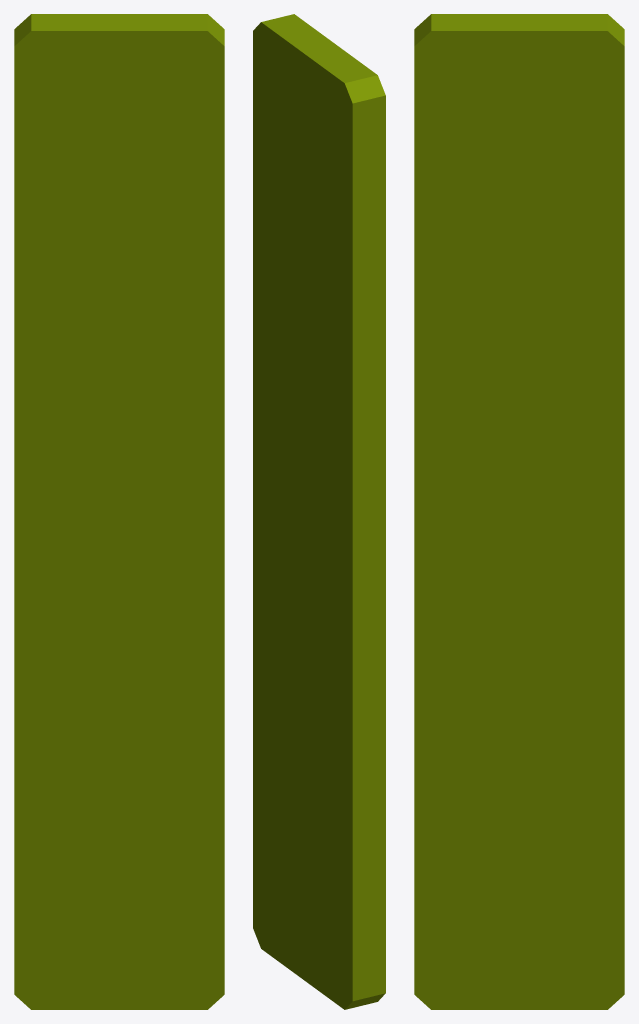
Rendered from SM_Poteausign1.fbx.
3 renders of one model, left to right at view 1: azimuth 90°, elevation 25°; view 2: azimuth 210°, elevation 25°; view 3: azimuth 270°, elevation 25°, orthographic. The views are drawn at different scales.
Visible parts, largest first — view 1: Poteausign1; view 2: Poteausign1; view 3: Poteausign1.
Boxes of the visible parts, bbox=[...] form: Poteausign1: bbox=[14, 14, 224, 1009]; Poteausign1: bbox=[253, 14, 385, 1009]; Poteausign1: bbox=[414, 14, 624, 1009].
Size of the model in its own units: 5.55 by 148 by 28.78.
